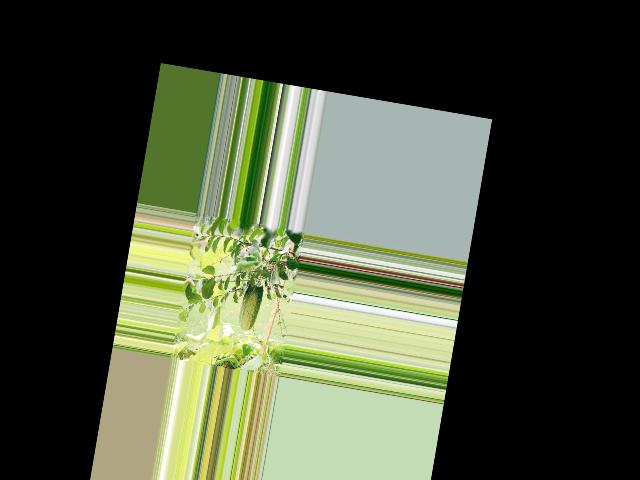cucumber: (237, 277, 266, 332)
